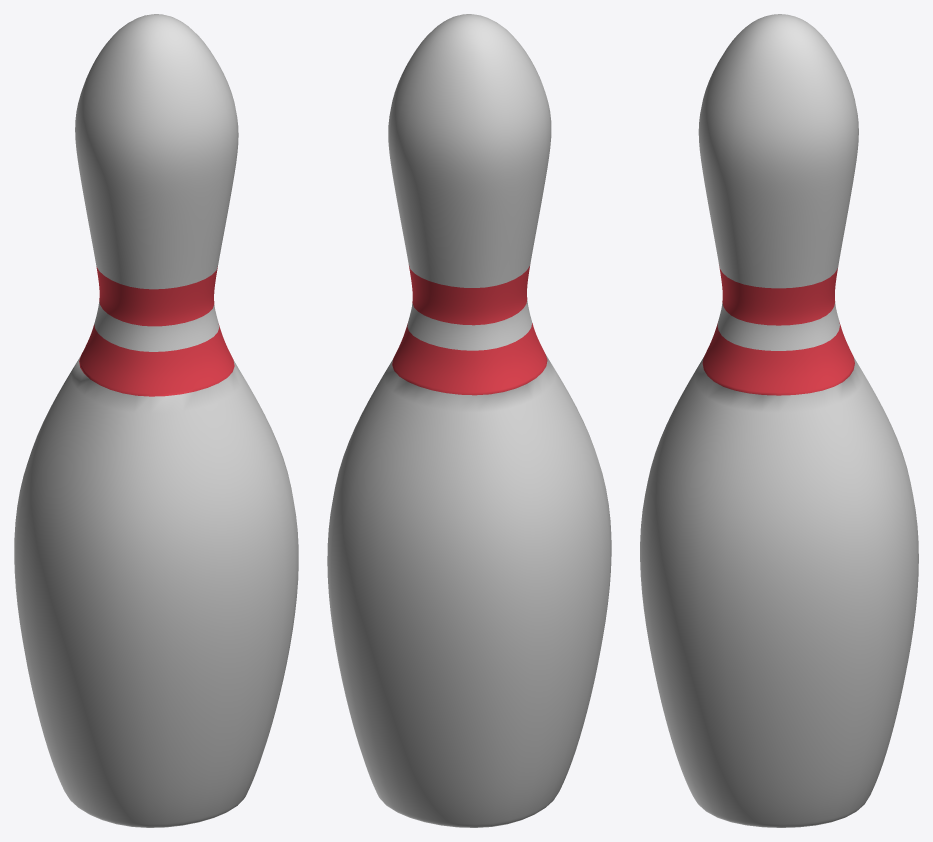
The model's file is BowlingPin.fbx.
3 renders of one model, left to right at view 1: azimuth 30°, elevation 25°; view 2: azimuth 150°, elevation 25°; view 3: azimuth 270°, elevation 25°, orthographic.
Visible parts, largest first — view 1: BowlingPin; view 2: BowlingPin; view 3: BowlingPin.
Boxes of the visible parts, <box> form: BowlingPin: <box>14,14,298,827</box>; BowlingPin: <box>327,14,611,827</box>; BowlingPin: <box>640,14,918,827</box>.
Bounding box in the file's own units: 263 × 808 × 263.
